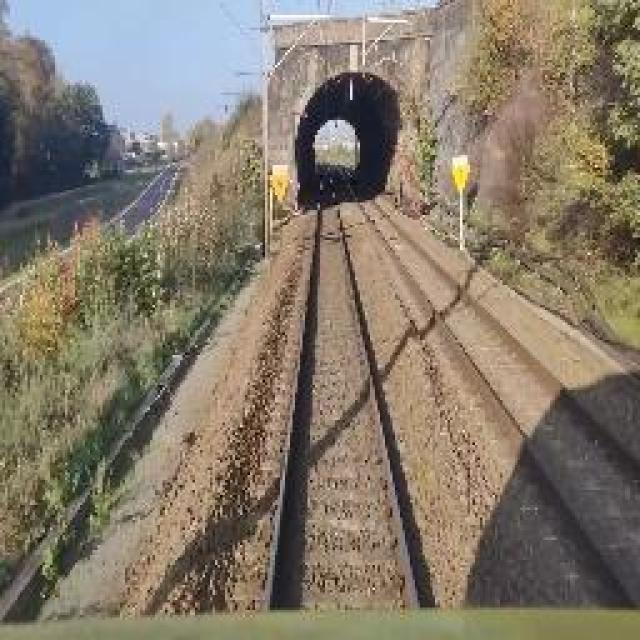rail: (237, 171, 443, 612)
